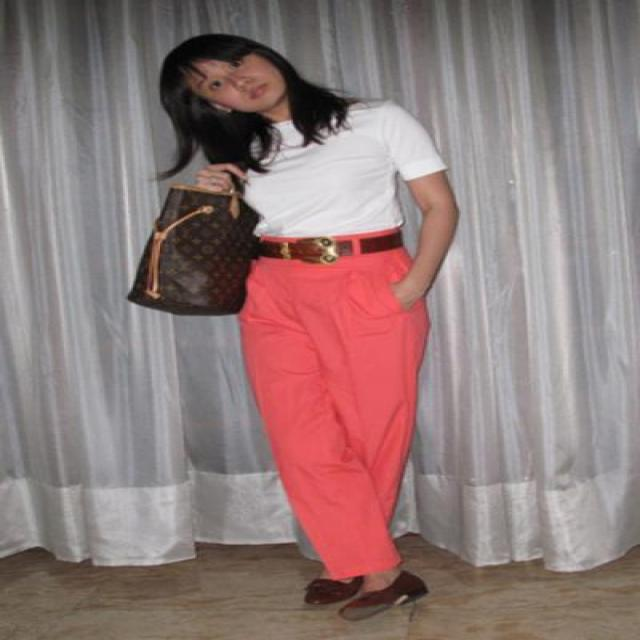bag: (126, 180, 278, 315)
pants: (238, 221, 429, 580)
shirt: (245, 102, 443, 237)
shoe: (306, 570, 427, 620)
